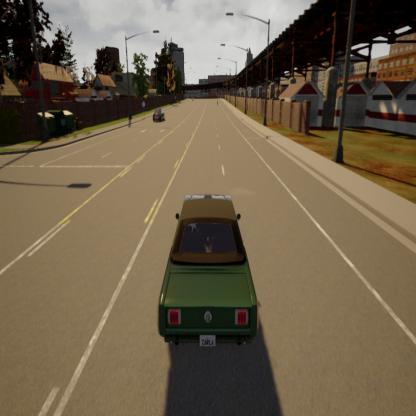Cars: (138, 176, 263, 360), (152, 105, 167, 126)
